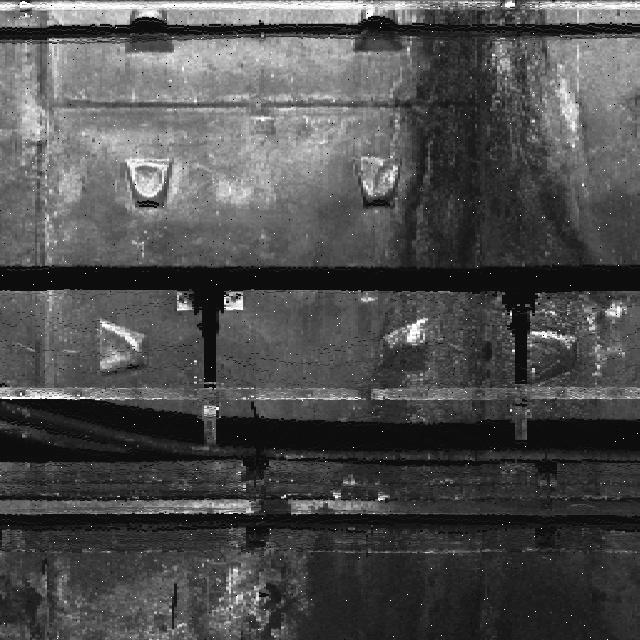leakage: (290, 0, 640, 630)
